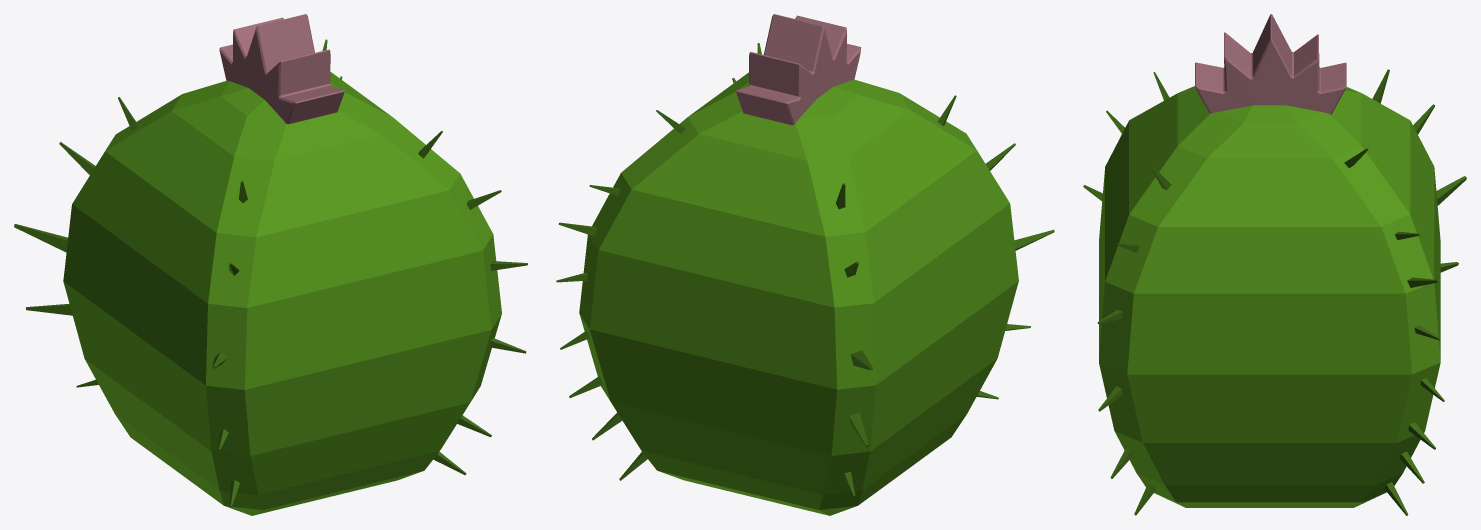
Rendered from Cactus03.fbx.
The picture shows the model from 3 angles, left to right: view 1: azimuth 30°, elevation 25°; view 2: azimuth 150°, elevation 25°; view 3: azimuth 270°, elevation 25°; orthographic projection.
Parts seen in each view (by area): view 1: cactus-3; view 2: cactus-3; view 3: cactus-3.
Boxes of the visible parts, x1=… form: cactus-3: x1=14, y1=14, x2=527, y2=515; cactus-3: x1=556, y1=14, x2=1054, y2=515; cactus-3: x1=1083, y1=14, x2=1466, y2=515.
Bounding box in the file's own units: 1.45 × 1.87 × 1.46.
